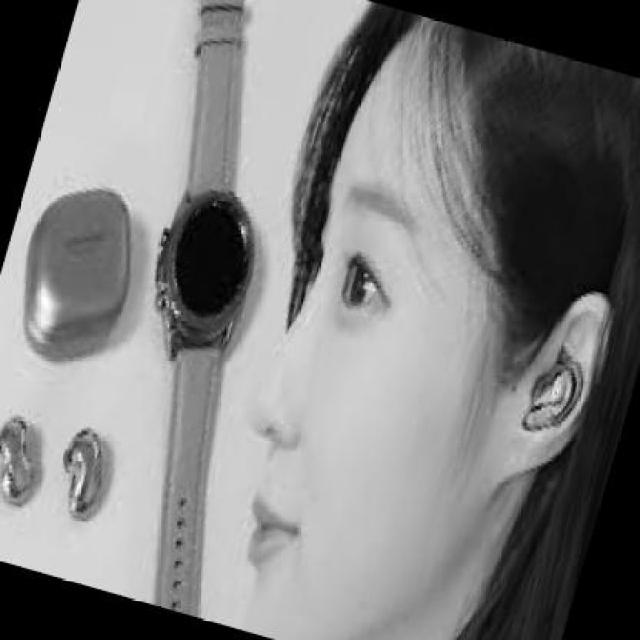earphone: (524, 342, 604, 447), (52, 409, 122, 512), (0, 400, 41, 511)
watch: (146, 0, 262, 640)
